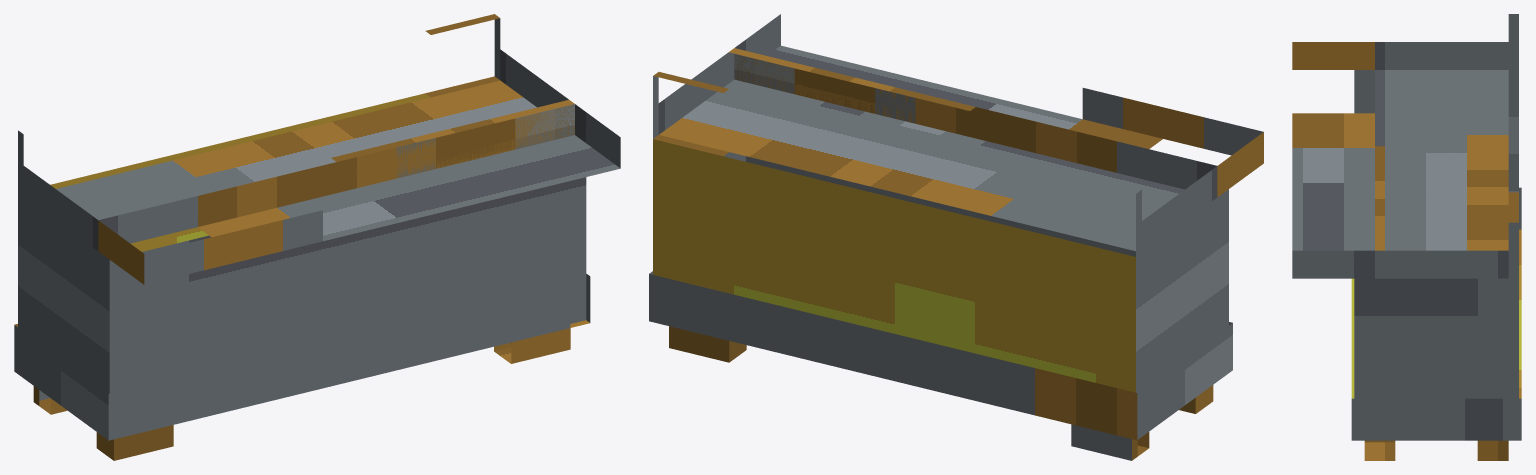
File: food_stand_flat.fbx
3 renders of one model, left to right at view 1: azimuth 30°, elevation 25°; view 2: azimuth 150°, elevation 25°; view 3: azimuth 270°, elevation 25°, orthographic. The views are drawn at different scales.
Parts seen in each view (by area): view 1: cube.024; view 2: cube.024; view 3: cube.024.
Part boxes in pixels (x1=…): cube.024: x1=14, y1=14, x2=620, y2=460; cube.024: x1=649, y1=14, x2=1263, y2=460; cube.024: x1=1292, y1=14, x2=1521, y2=460.
Size of the model in its own units: 303 by 162 by 139.
